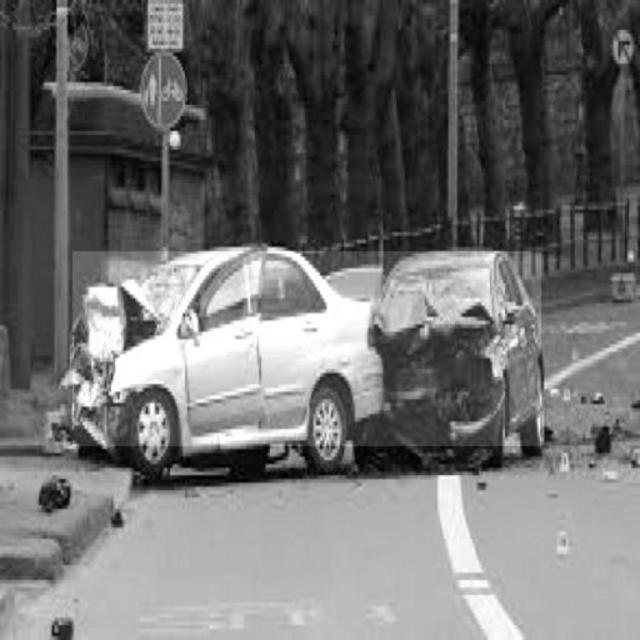accident: (73, 252, 541, 447)
